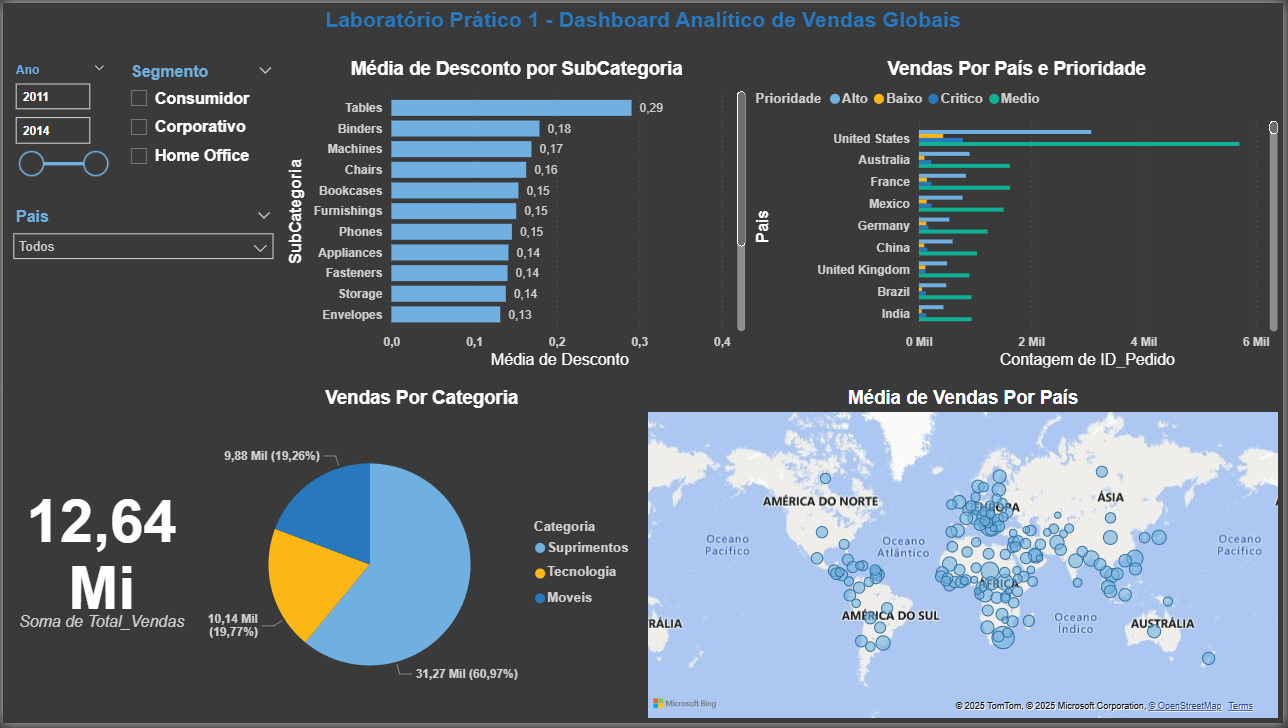

The page's visual inventory and layout, read from the dashboard file:
{"tool":"powerbi","page":{"name":"Página 1","canvas":[1280,720],"ordinal":0},"visuals":[{"type":"card","fields":{"Values":["Sum(dataset.Total_Vendas)"]},"box":[0,383.8,197.5,336.2],"z":0},{"type":"pieChart","title":"Vendas Por Categoria","fields":{"Category":["dataset.Categoria"],"Y":["CountNonNull(dataset.ID_Pedido)"]},"box":[197.5,383.8,442.5,335],"z":1000},{"type":"clusteredBarChart","title":"Vendas Por País e Prioridade","fields":{"Category":["dataset.Pais"],"Series":["dataset.Prioridade"],"Y":["CountNonNull(dataset.ID_Pedido)"]},"box":[747.5,55,532.5,315],"z":2000},{"type":"clusteredBarChart","fields":{"Category":["dataset.SubCategoria"],"Y":["Avg(dataset.Desconto)"]},"box":[280,55,467.5,315],"z":3000},{"type":"map","title":"Média de Vendas Por País","fields":{"Category":["dataset.Pais"],"Size":["Avg(dataset.Total_Vendas)"]},"box":[640,383.8,640,336.2],"z":4000},{"type":"slicer","fields":{"Values":["dataset.Pais"]},"box":[0,200,280,160],"z":5000},{"type":"slicer","fields":{"Values":["dataset.Segmento"]},"box":[115,55,166.2,145],"z":6000},{"type":"slicer","fields":{"Values":["dataset.Data_Pedido.Variation.Hierarquia de datas.Ano"]},"box":[0,55,113.8,145],"z":7000},{"type":"textbox","box":[0,0,1280,55],"z":8000}]}

Visuals, with their boxes in screenshot pixels (x1, y1, x2, y2), scaled from the page's 1280x720 canvas onto the 1288x728 screenshot:
card - Sum(dataset.Total_Vendas): bbox=[0, 388, 199, 727]
"Vendas Por Categoria" pieChart: bbox=[199, 388, 644, 727]
"Vendas Por País e Prioridade" clusteredBarChart: bbox=[752, 56, 1287, 374]
clusteredBarChart - dataset.SubCategoria x Avg(dataset.Desconto): bbox=[282, 56, 752, 374]
"Média de Vendas Por País" map: bbox=[644, 388, 1287, 727]
slicer - dataset.Pais: bbox=[0, 202, 282, 364]
slicer - dataset.Segmento: bbox=[116, 56, 283, 202]
slicer - dataset.Data_Pedido.Variation.Hierarquia de datas.Ano: bbox=[0, 56, 115, 202]
textbox: bbox=[0, 0, 1287, 56]
